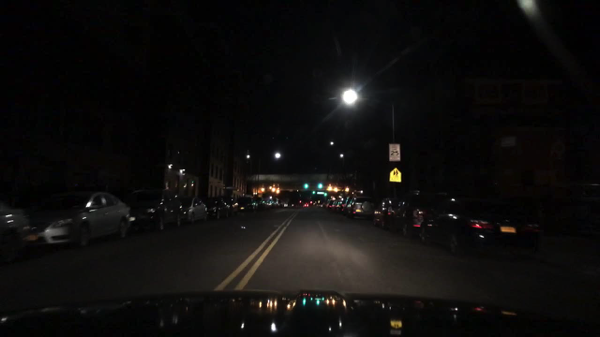car: (418, 196, 542, 257), (22, 189, 132, 248), (390, 188, 449, 239), (127, 188, 184, 233), (0, 200, 30, 266), (179, 195, 211, 226), (372, 196, 399, 230), (347, 196, 376, 221), (204, 198, 230, 221), (236, 195, 258, 211), (222, 195, 239, 215), (337, 195, 352, 216), (258, 198, 273, 207), (330, 200, 342, 211), (323, 198, 334, 208), (280, 200, 289, 209), (272, 196, 279, 206), (316, 200, 324, 208), (303, 201, 310, 208)
traffic light: (303, 181, 308, 191), (317, 181, 322, 188), (322, 191, 327, 197), (312, 189, 315, 196)
traffic sign: (388, 143, 401, 162), (388, 166, 402, 182), (552, 140, 565, 157), (499, 135, 514, 147), (222, 186, 238, 191), (316, 191, 323, 196)
